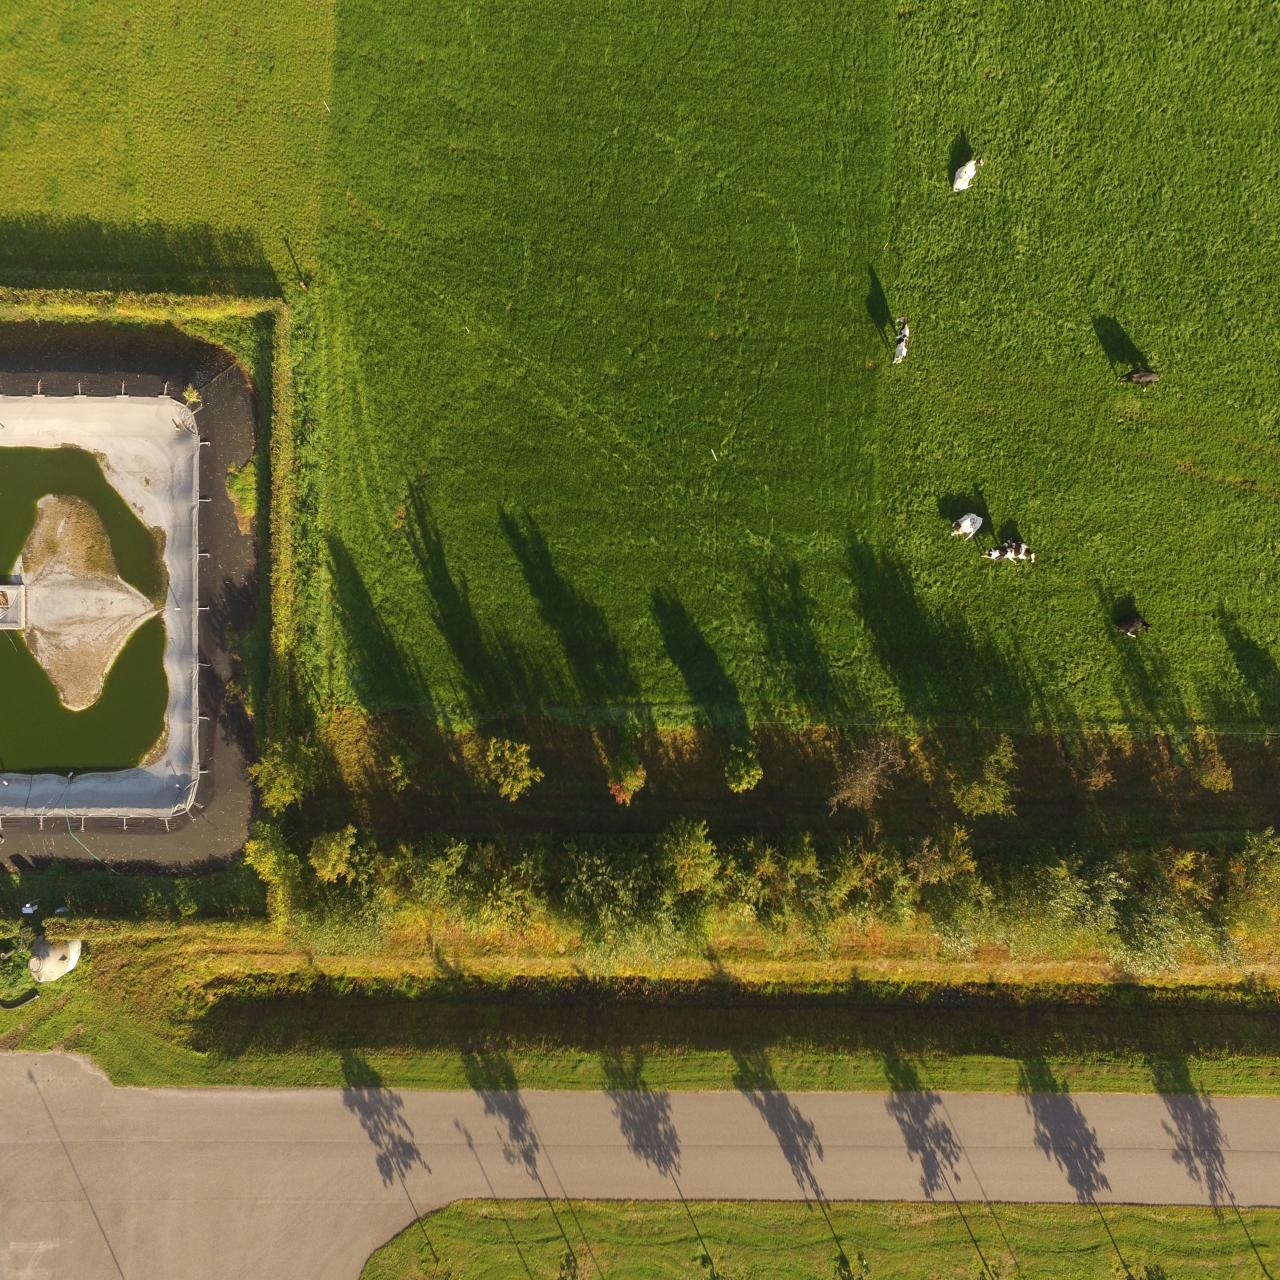cow: (1110, 361, 1170, 397), (947, 150, 990, 197), (886, 305, 913, 370), (1109, 608, 1155, 644), (998, 533, 1039, 567), (947, 505, 983, 542), (975, 543, 1016, 570)
